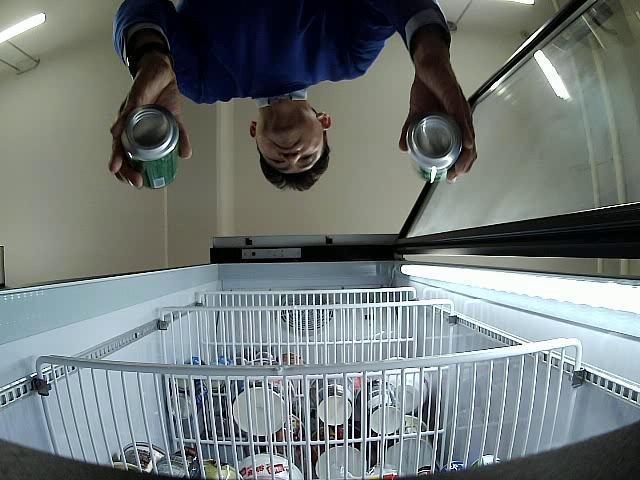12_chilsungCider: (120, 103, 178, 192), (406, 110, 464, 183)
